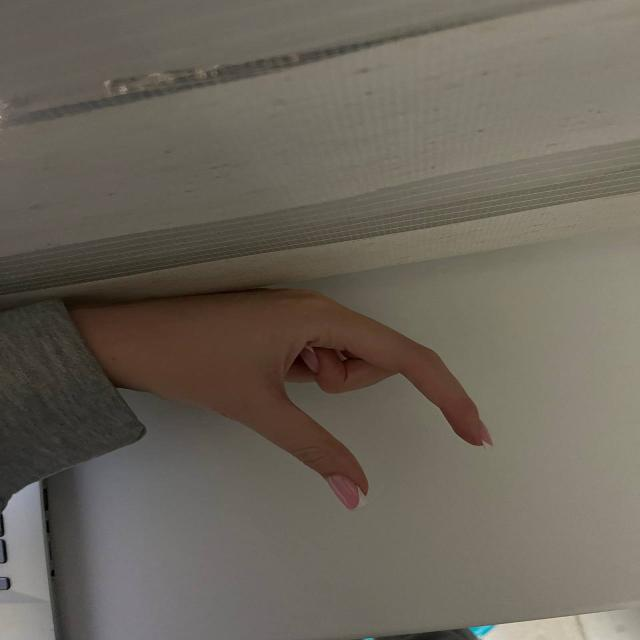uh: (112, 276, 564, 508)
